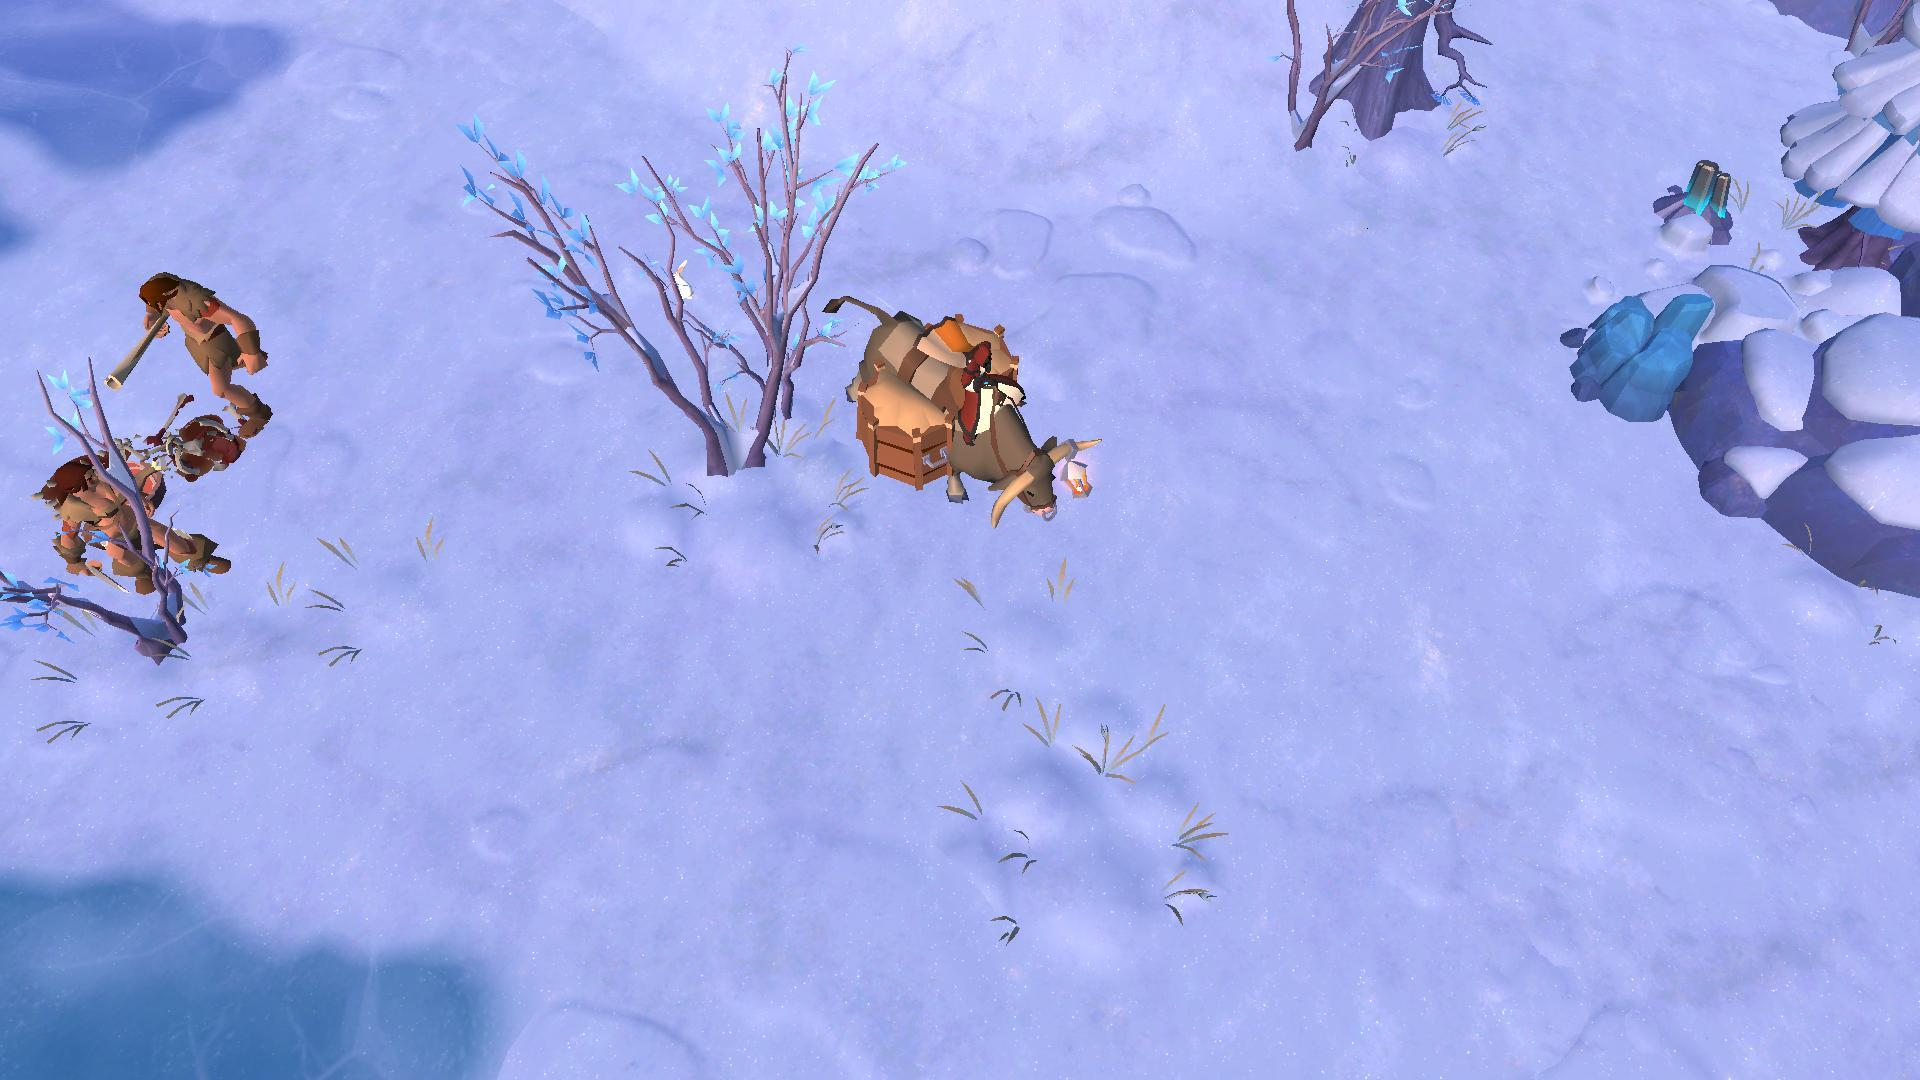enemy_factionKeeper: (144, 241, 289, 443), (45, 450, 229, 607)
ore_t4: (1687, 158, 1737, 229)
rock_t4: (1545, 286, 1720, 427)
